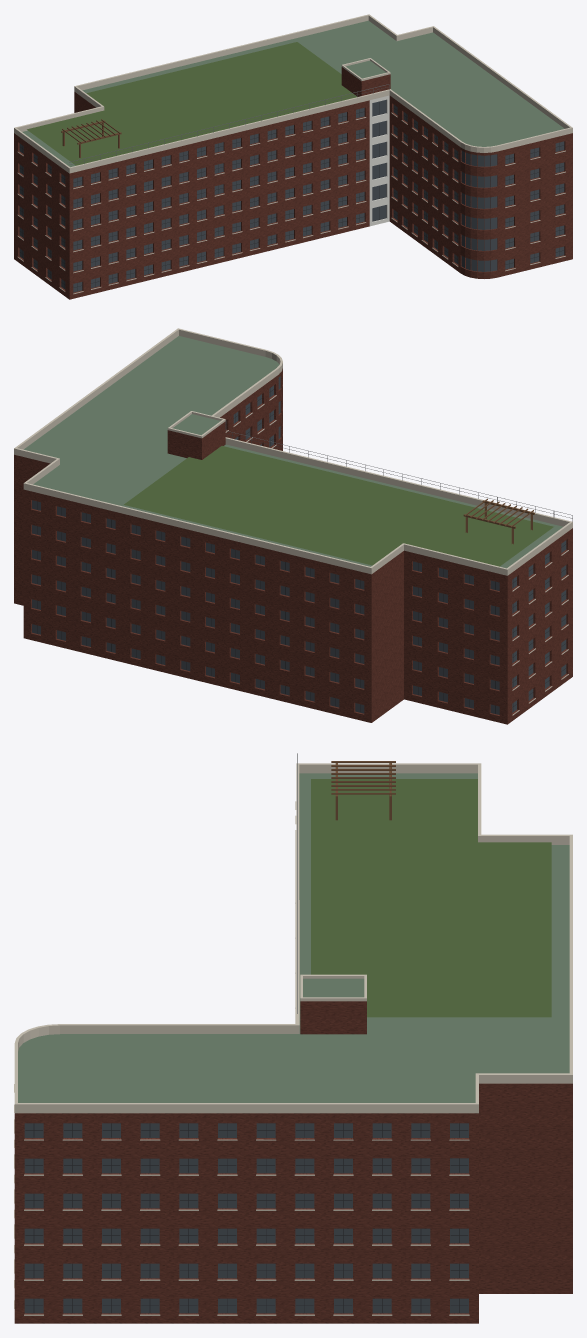
The picture shows the model from 3 angles, top to bottom: view 1: azimuth 30°, elevation 25°; view 2: azimuth 150°, elevation 25°; view 3: azimuth 270°, elevation 25°; orthographic projection. The views are drawn at different scales.
Visible parts, largest first — view 1: toegye__wall, toegye__garden, toegye__glass, toegye__roof, toegye__trim, toegye__frame, toegye__white, toegye__metal, toegye__wood; view 2: toegye__wall, toegye__garden, toegye__roof, toegye__glass, toegye__trim, toegye__frame, toegye__wood, toegye__metal; view 3: toegye__wall, toegye__garden, toegye__roof, toegye__glass, toegye__trim, toegye__frame, toegye__wood.
Part boxes in pixels (x1,y1,x2,y2): toegye__wall: (14,67,572,299); toegye__garden: (27,42,356,165); toegye__glass: (19,100,564,292); toegye__roof: (22,20,564,167); toegye__trim: (14,14,572,294); toegye__frame: (20,100,563,290); toegye__white: (369,95,389,226); toegye__metal: (69,84,389,164); toegye__wood: (61,119,121,157); toegye__wall: (14,368,572,724); toegye__garden: (124,446,553,566); toegye__roof: (24,336,562,568); toegye__glass: (32,376,566,714); toegye__trim: (14,328,572,715); toegye__frame: (37,388,565,713); toegye__wood: (463,498,534,544); toegye__metal: (226,430,572,521); toegye__wall: (14,1001,572,1323); toegye__garden: (311,779,551,1017); toegye__roof: (18,773,569,1102); toegye__glass: (24,1123,468,1313); toegye__trim: (14,763,572,1315); toegye__frame: (25,1123,468,1312); toegye__wood: (331,761,395,820).
Bounding box in the file's own units: 75.26 × 25.3 × 52.02.
9 materials, 1 textured.
